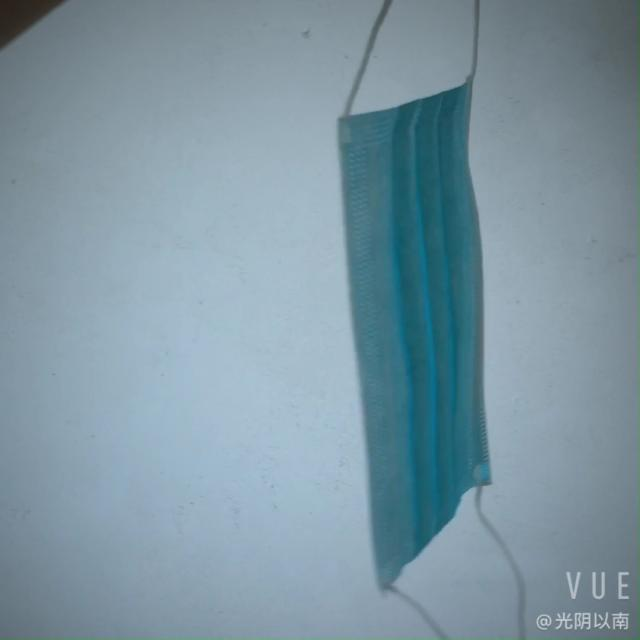non-organic waste: (321, 62, 522, 599)
